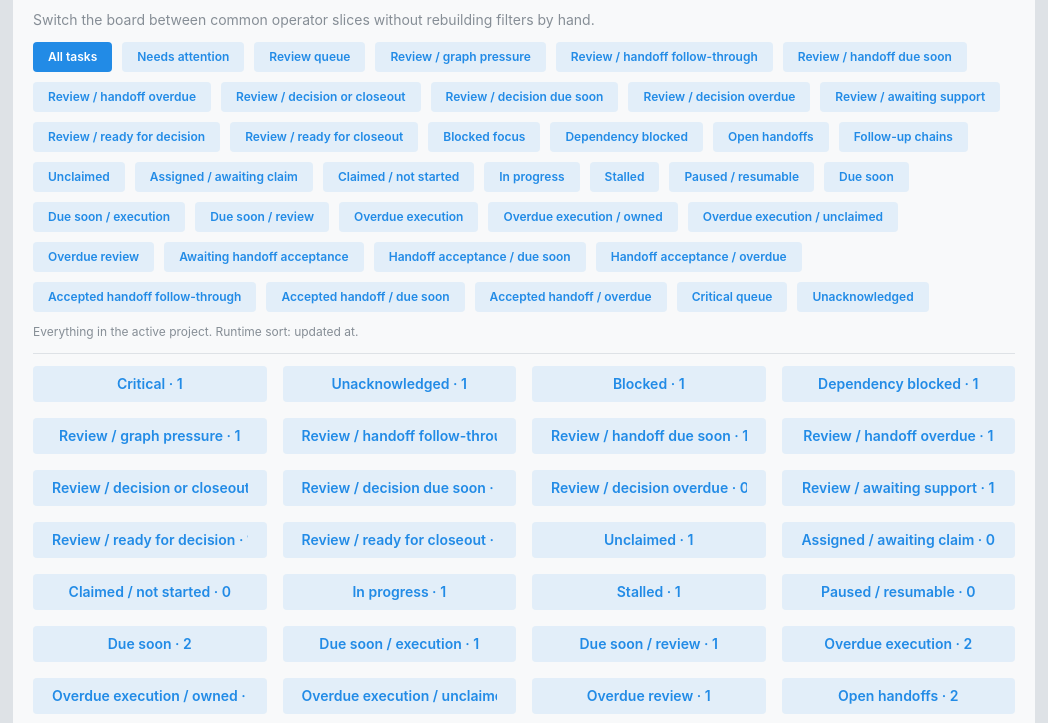
Canopy page › opens the runtime unacknowledged queue from the operator shortcut
The width and height of the screenshot is (1048, 723).
(page scrolled)
Click the button "Unacknowledged · 1" at (399, 384), box [282,366,516,402]
(page scrolled)
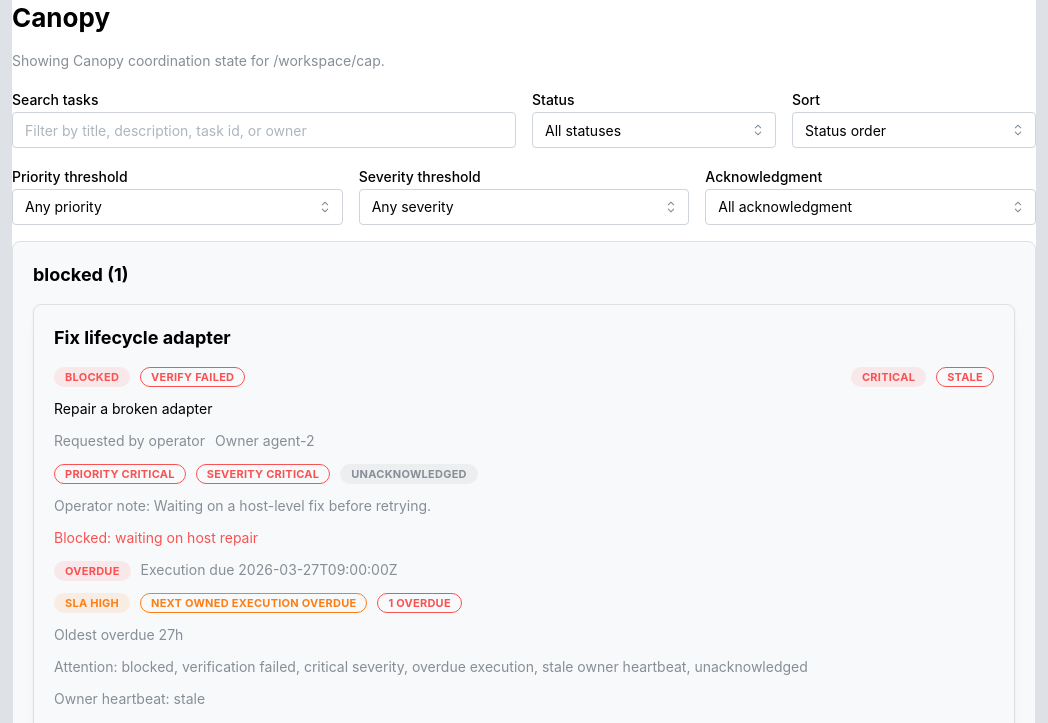
Now the heading "Fix lifecycle adapter" is shown, box [54,327,231,348]
